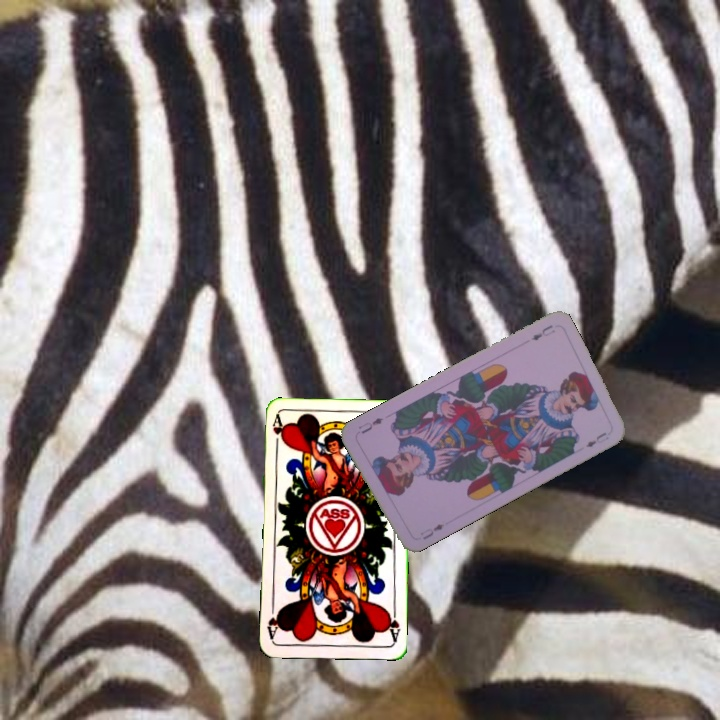EU: (416, 519, 447, 542), (527, 320, 558, 343)
HA: (383, 603, 402, 644), (268, 412, 285, 453)
